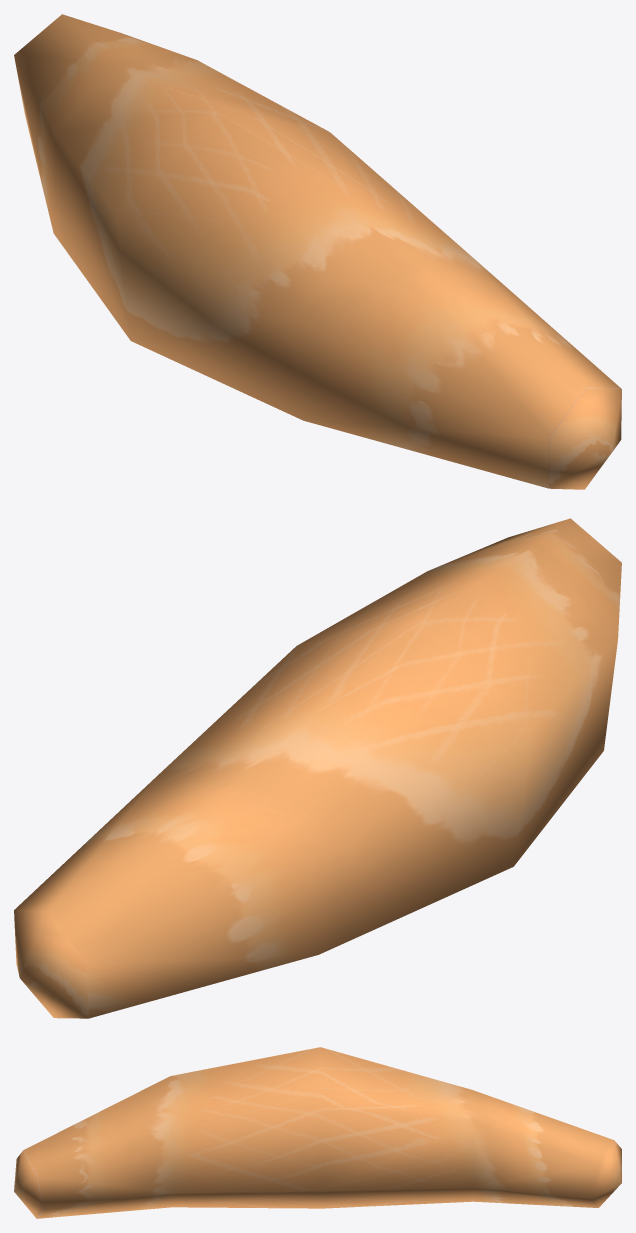
The model's file is rohlik.gltf.
The picture shows the model from 3 angles, top to bottom: view 1: azimuth 30°, elevation 25°; view 2: azimuth 150°, elevation 25°; view 3: azimuth 270°, elevation 25°; orthographic projection. The views are drawn at different scales.
Parts seen in each view (by area): view 1: rohlik; view 2: rohlik; view 3: rohlik.
Part boxes in pixels (<box>): rohlik: <box>14,14,621,489</box>; rohlik: <box>14,518,621,1018</box>; rohlik: <box>14,1047,621,1218</box>.
Bounding box in the file's own units: 0.0952 × 0.0885 × 0.3193.
1 material, 1 textured.
